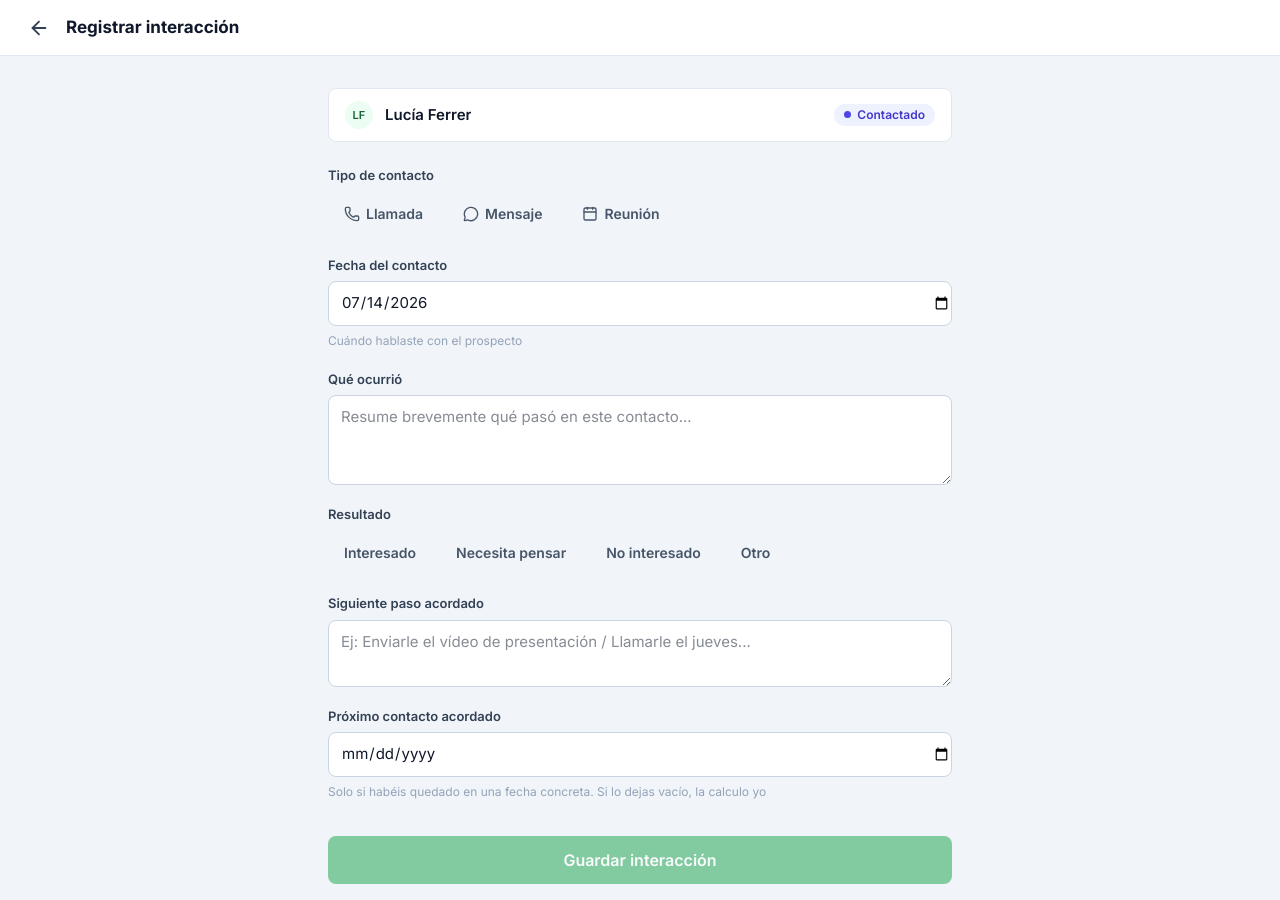
Test: guardado (JOS-16) › error de red: banner claro, datos intactos y botón re-habilitado
The image size is (1280, 900).
Click the radio button labelled "Llamada" at (384, 214), box x1=328 y1=192 x2=439 y2=236
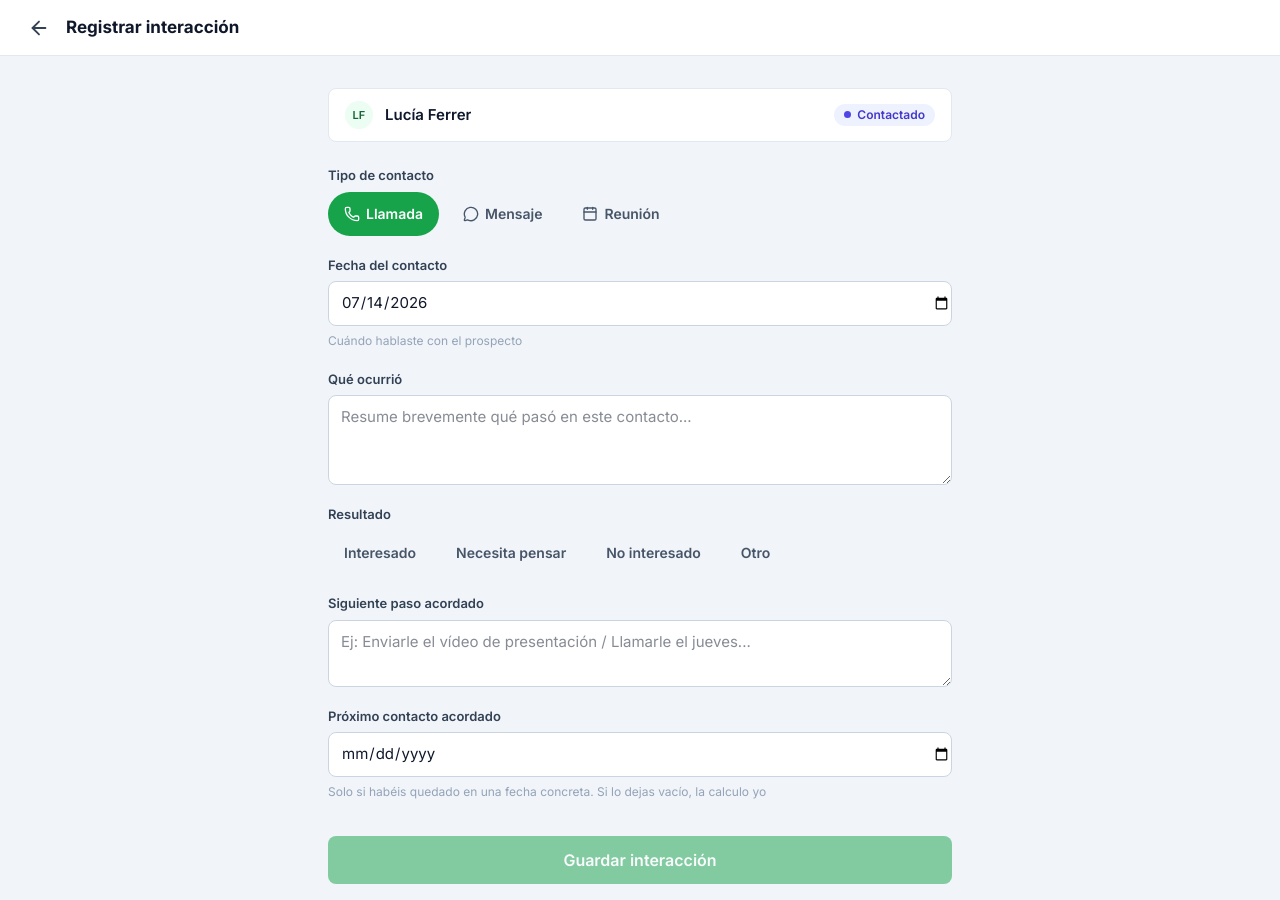
Type " Llamada corta " into the text box labelled "Qué ocurrió" at (640, 440), box x1=328 y1=395 x2=952 y2=484
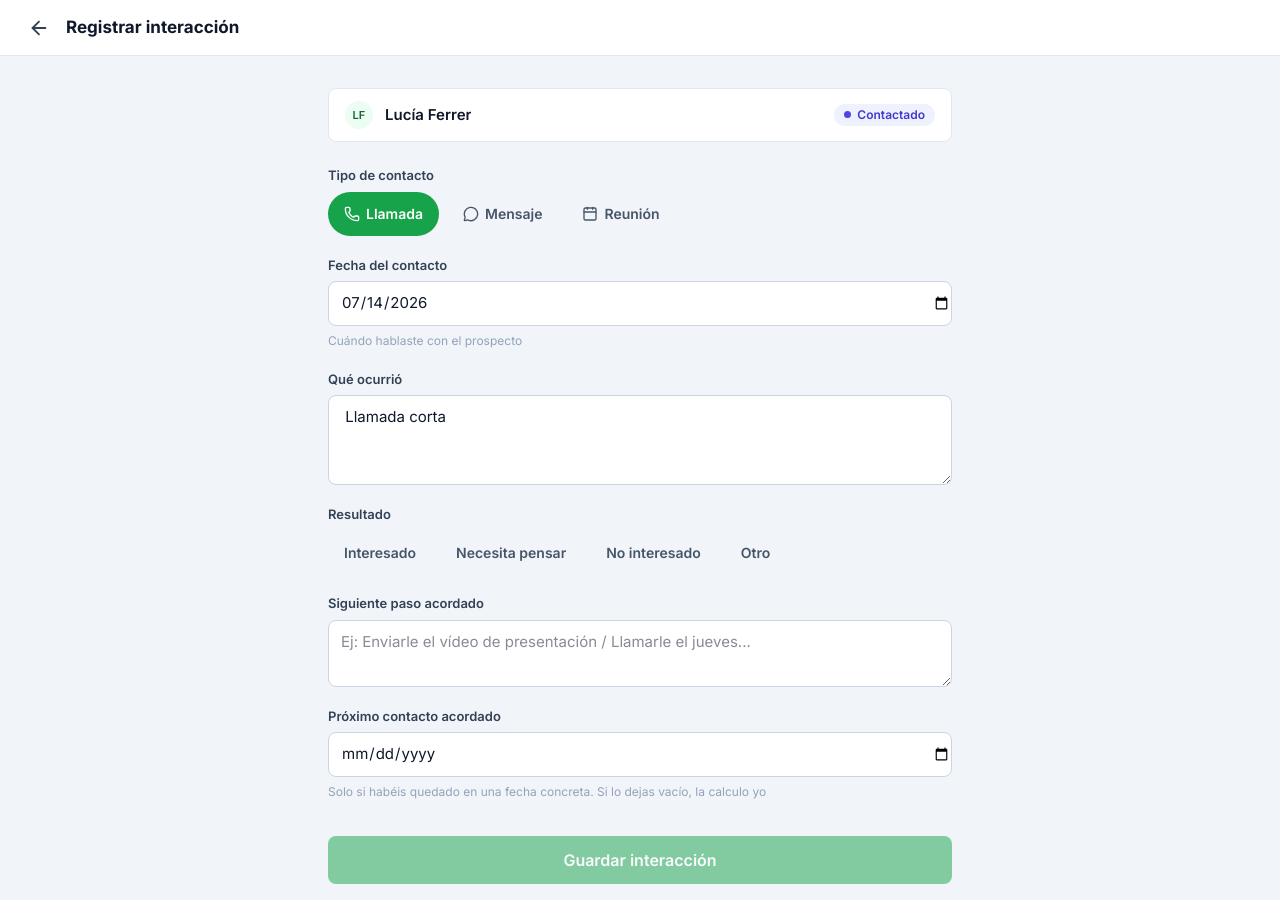
Click the radio button labelled "Interesado" at (380, 552), box x1=328 y1=530 x2=432 y2=574
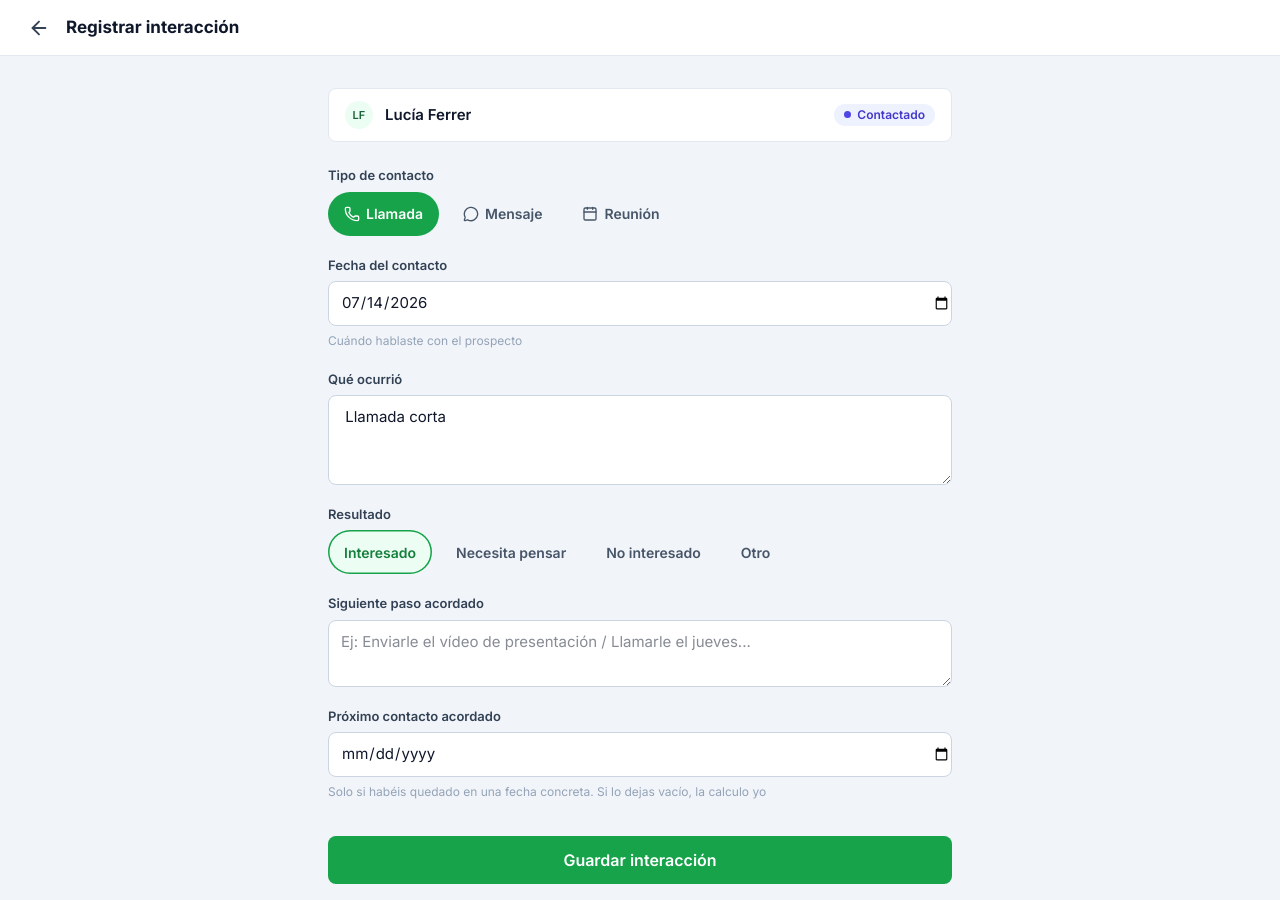
Submit the form, box x1=304 y1=56 x2=976 y2=899
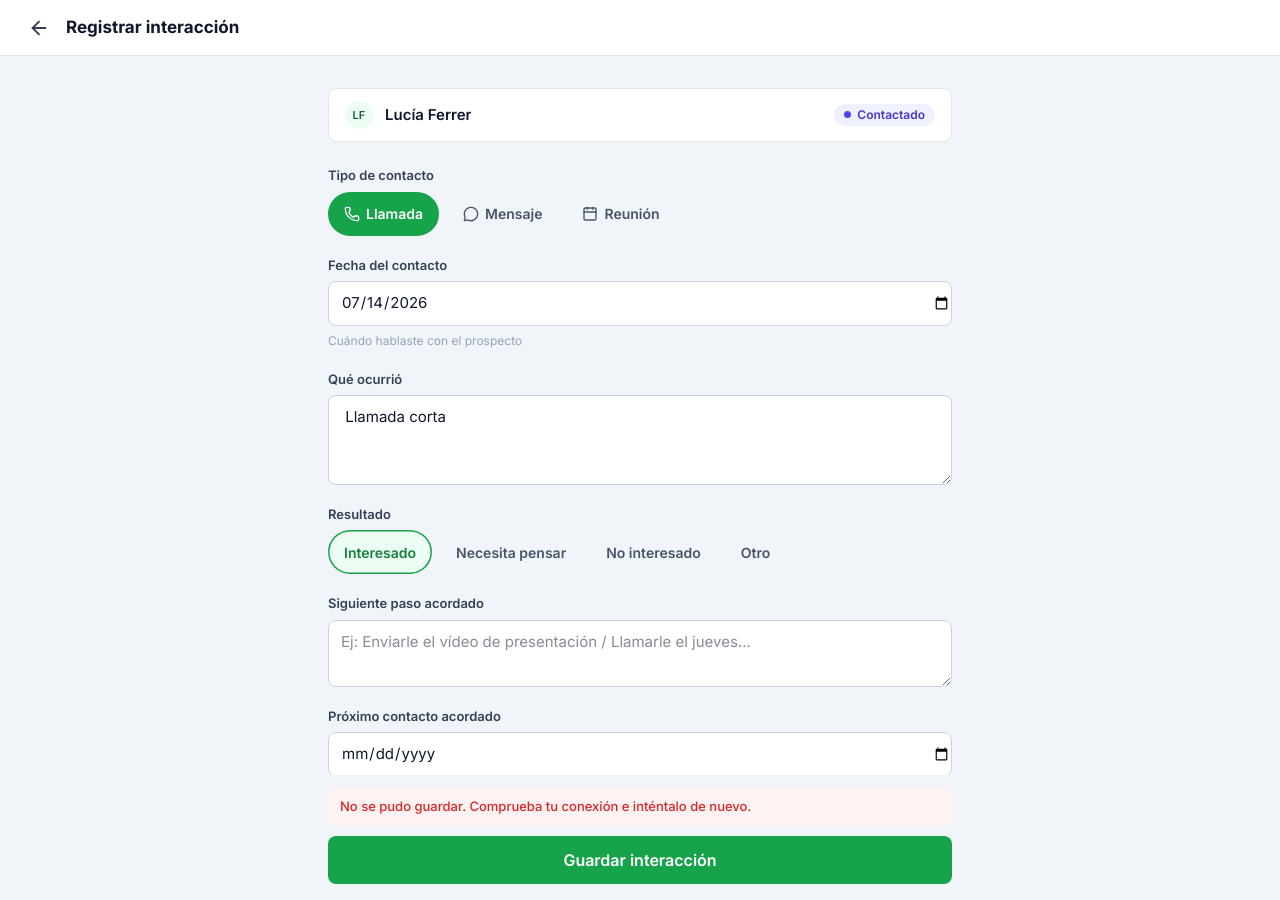
Expected: the button "Guardar interacción" is enabled, x1=328 y1=836 x2=952 y2=884
Expected: the message reads "No se pudo guardar. Comprueba tu conexión e inténtalo de nuevo.", x1=340 y1=798 x2=751 y2=814
